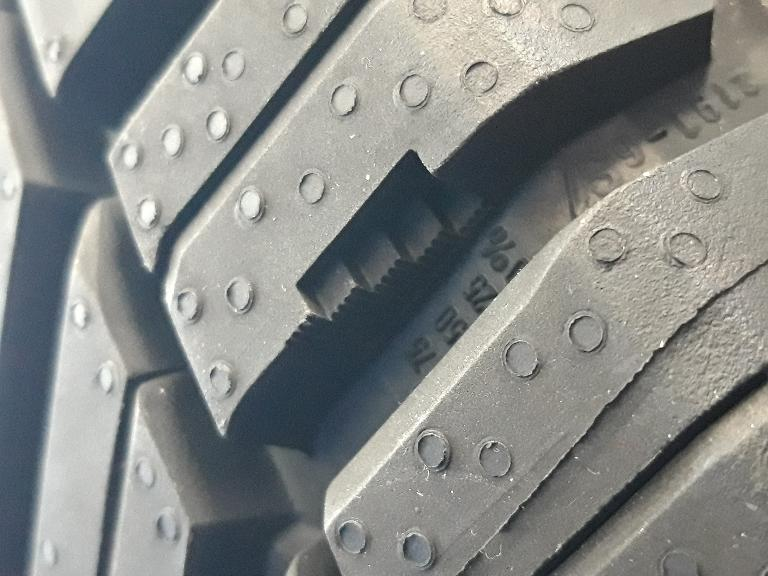temoin:100: (278, 141, 511, 388)
